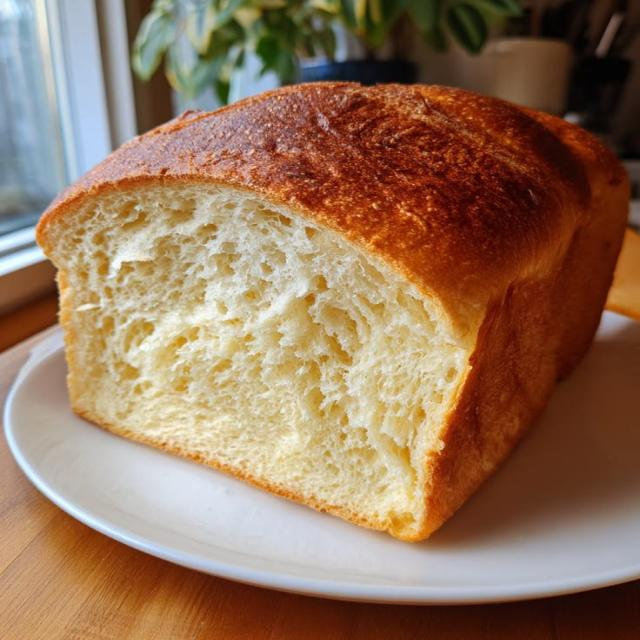bread: (38, 83, 628, 540)
